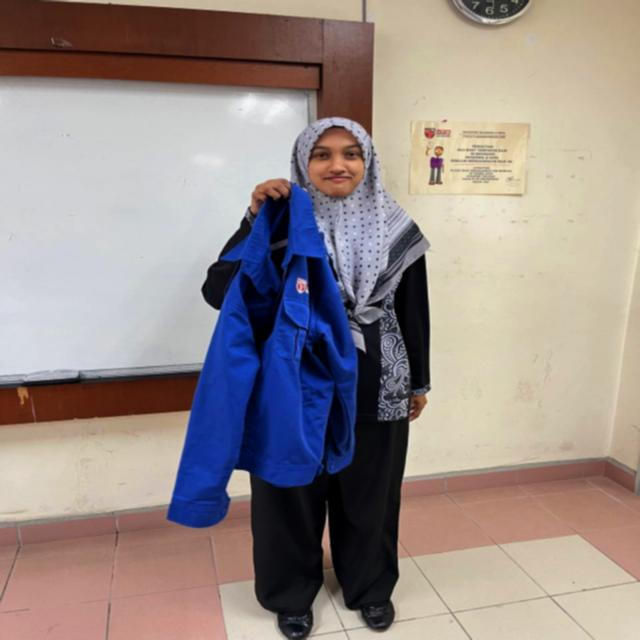person_without_labcoat: (169, 118, 429, 640)
